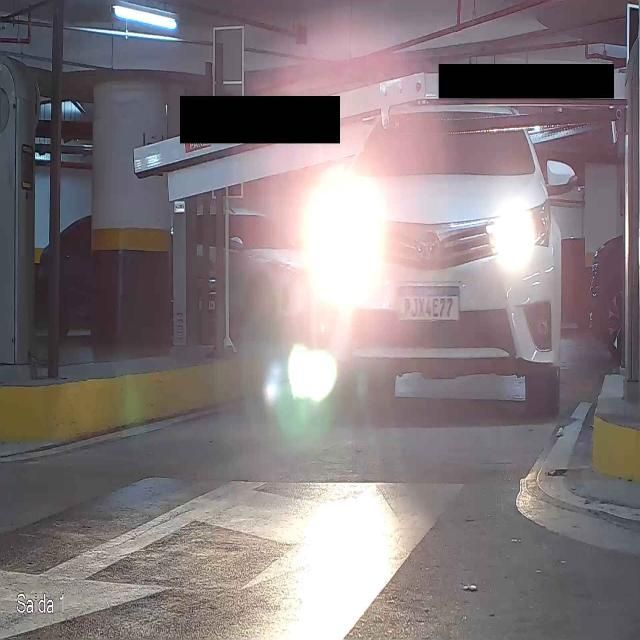mercosul_plate: (394, 284, 462, 322)
